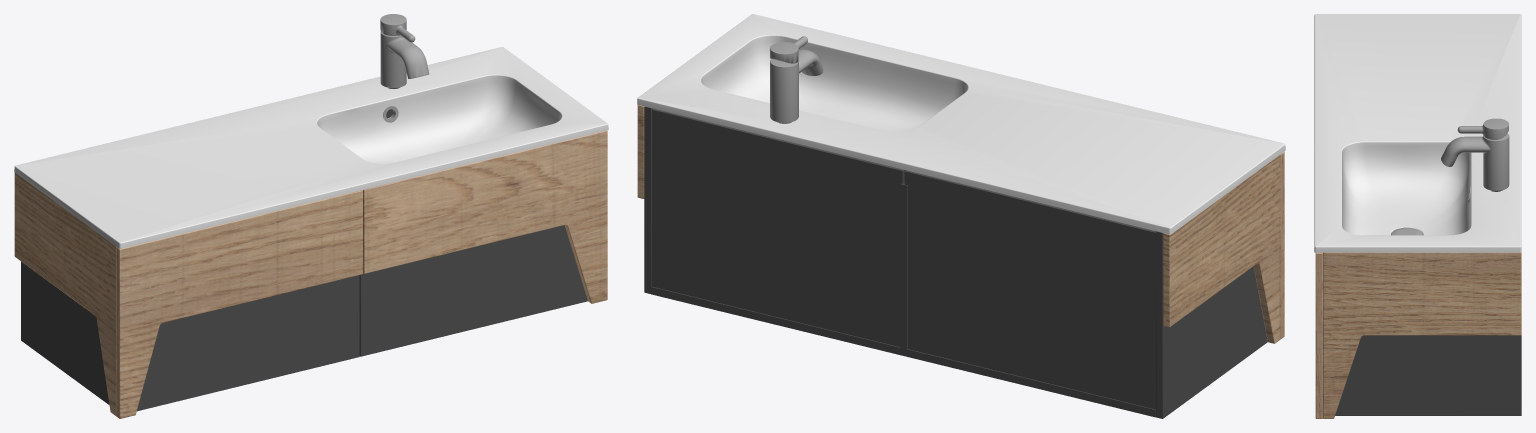
File: Burry.glb
The picture shows the model from 3 angles, left to right: view 1: azimuth 30°, elevation 25°; view 2: azimuth 150°, elevation 25°; view 3: azimuth 270°, elevation 25°; orthographic projection. The views are drawn at different scales.
Visible parts, largest first — view 1: Solid1-faasade, Solid1-washbasin, Solid1-frontside, Solid1-crane; view 2: Solid1-frontside, Solid1-washbasin, Solid1-faasade, Solid1-crane; view 3: Solid1-washbasin, Solid1-faasade, Solid1-frontside, Solid1-crane.
Part boxes in pixels (x1,y1,x2,y2): Solid1-faasade: (14, 130, 607, 418); Solid1-washbasin: (14, 47, 608, 248); Solid1-frontside: (21, 88, 587, 411); Solid1-crane: (380, 14, 429, 122); Solid1-frontside: (644, 106, 1267, 418); Solid1-washbasin: (637, 14, 1285, 234); Solid1-faasade: (637, 105, 1284, 343); Solid1-crane: (770, 36, 823, 122); Solid1-washbasin: (1314, 14, 1521, 252); Solid1-faasade: (1315, 252, 1521, 418); Solid1-frontside: (1335, 190, 1521, 415); Solid1-crane: (1391, 118, 1509, 235).
Size of the model in its own units: 1.2 by 0.569 by 0.4507.
4 materials, 1 textured.
